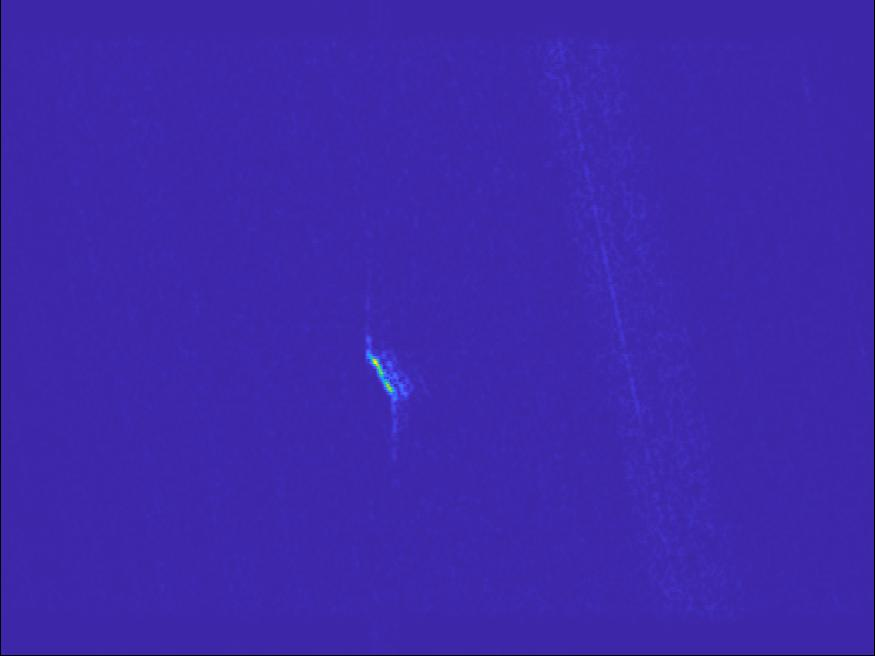Interference: (37, 283, 244, 369), (434, 304, 551, 348)
